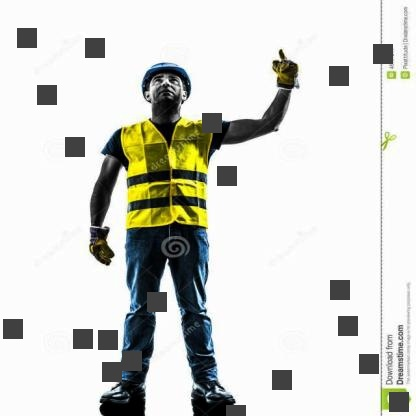blue: (135, 53, 200, 99)
vest: (118, 115, 216, 226)
